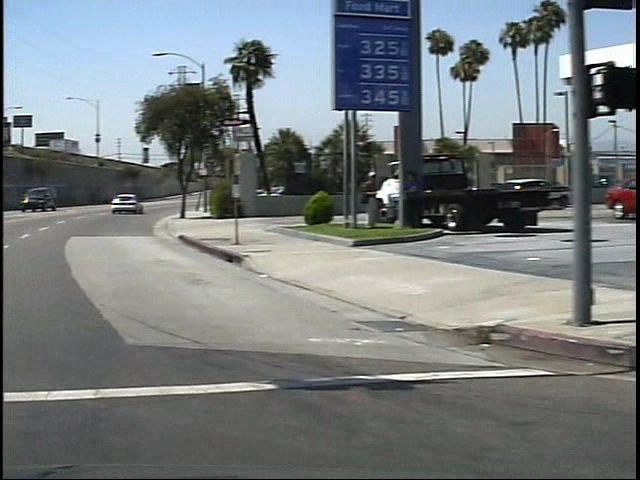person: (349, 163, 374, 229)
